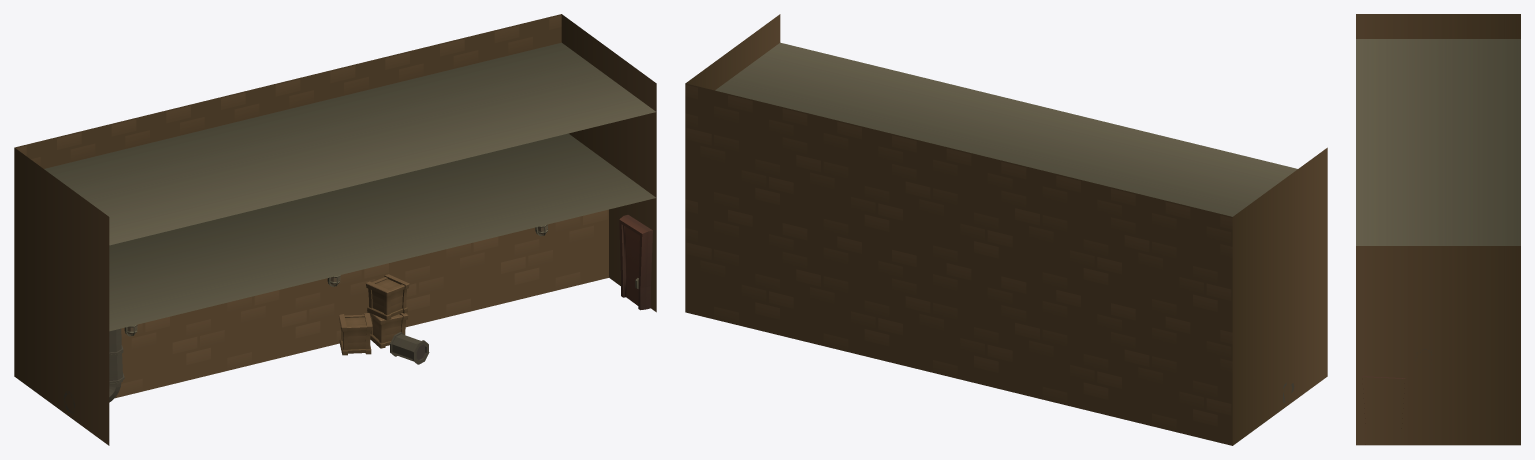
File: Room34_8x20.fbx
The picture shows the model from 3 angles, left to right: view 1: azimuth 30°, elevation 25°; view 2: azimuth 150°, elevation 25°; view 3: azimuth 270°, elevation 25°; orthographic projection. The views are drawn at different scales.
Visible parts, largest first — view 1: Room34_8x20; view 2: Room34_8x20; view 3: Room34_8x20.
Boxes of the visible parts, x1=… form: Room34_8x20: x1=14, y1=14, x2=656, y2=445; Room34_8x20: x1=685, y1=14, x2=1327, y2=445; Room34_8x20: x1=1356, y1=14, x2=1520, y2=445.
Size of the model in its own units: 2006 by 600 by 802.
